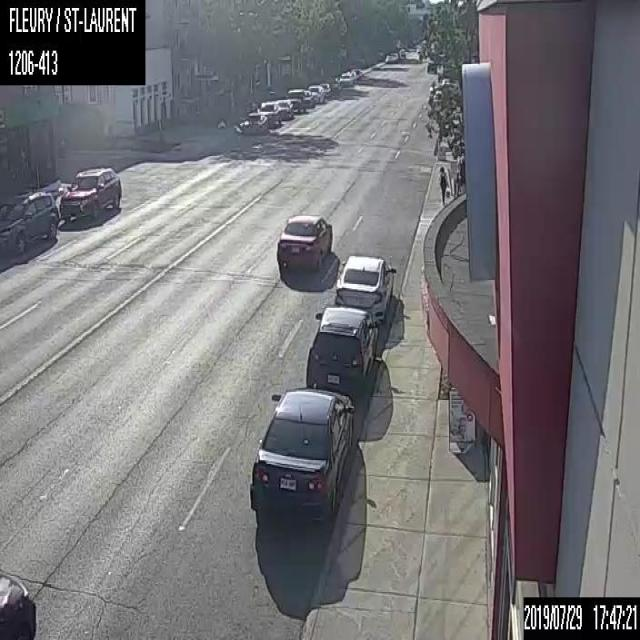pedestrian: (438, 165, 449, 204)
vehicle: (248, 387, 355, 532), (306, 304, 378, 389), (0, 190, 59, 266), (334, 254, 396, 322), (58, 165, 120, 221), (274, 212, 332, 269), (0, 570, 38, 638), (254, 100, 282, 127), (237, 113, 268, 135), (285, 88, 305, 112), (273, 98, 292, 120), (307, 83, 324, 103), (318, 81, 331, 97), (303, 89, 313, 108), (339, 71, 352, 84), (426, 60, 436, 73)
